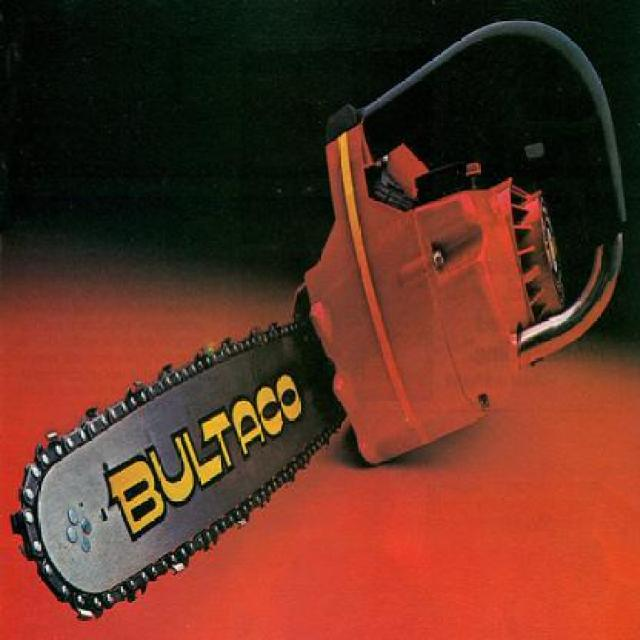Chainsaw: (7, 34, 640, 640)
